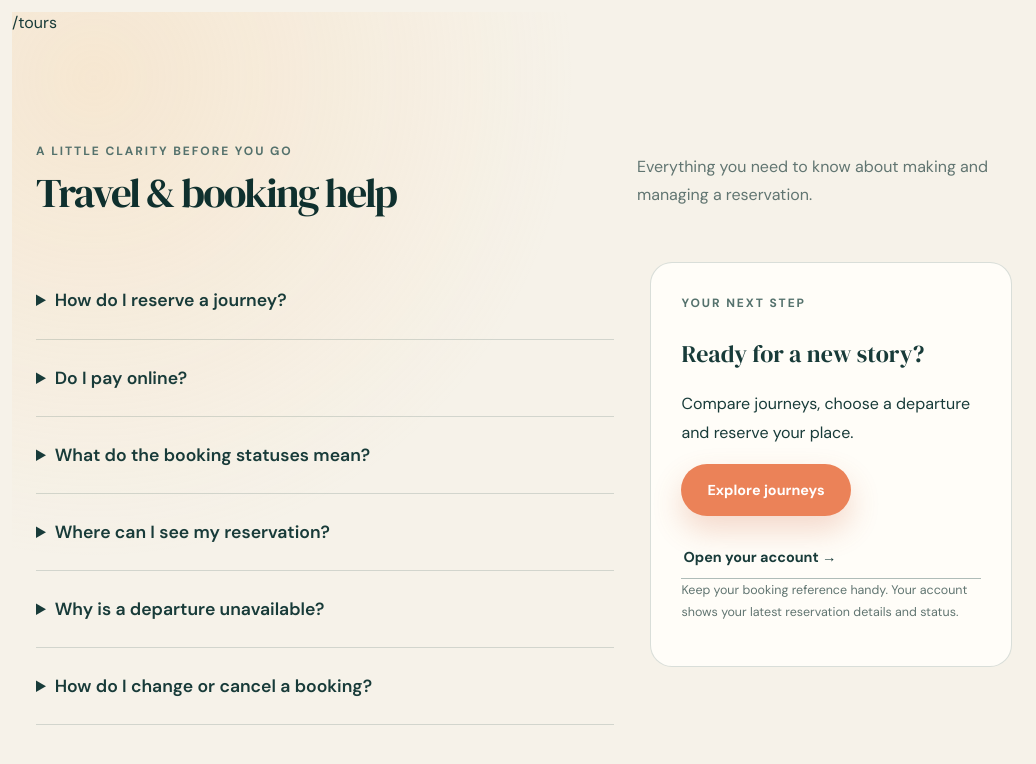
it: Website completion › provides expandable booking guidance without development-only notices
Click the heading "Do I pay online?": (121, 378) [55,367,187,389]
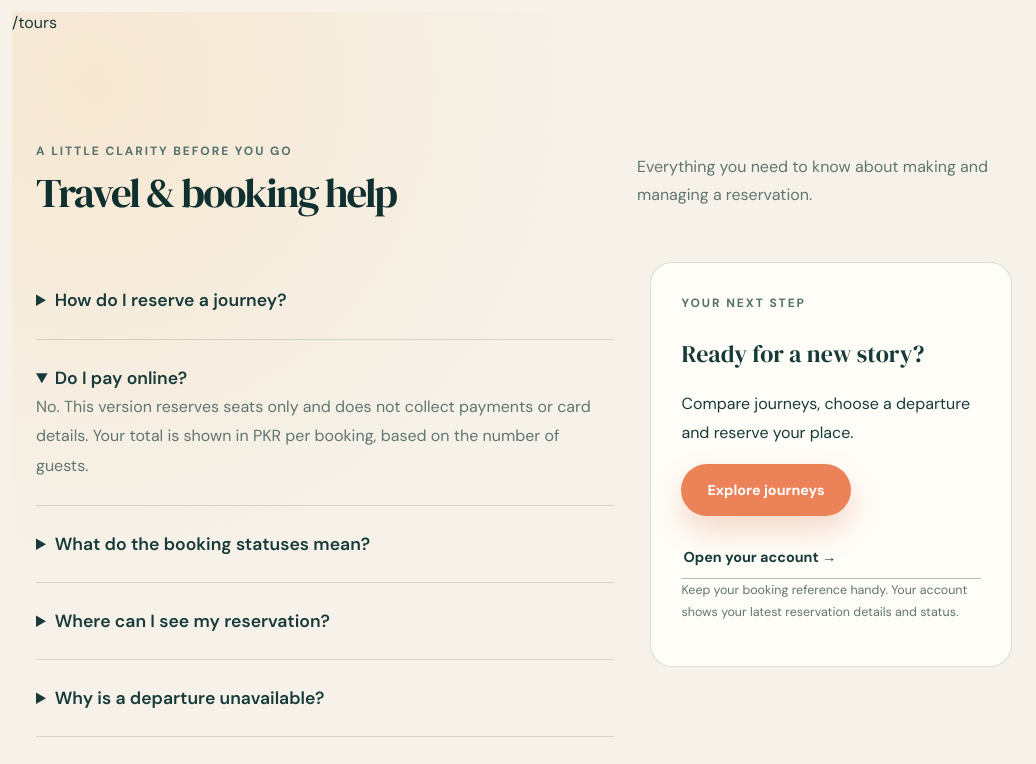
Expected: the text "Keep your booking reference handy" is shown, [682,582,968,620]
Now the text "does not collect payments or card details" is shown, box [36,396,591,476]
